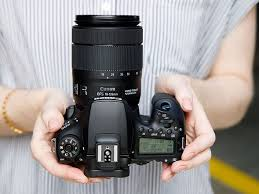camera: (54, 15, 182, 176)
